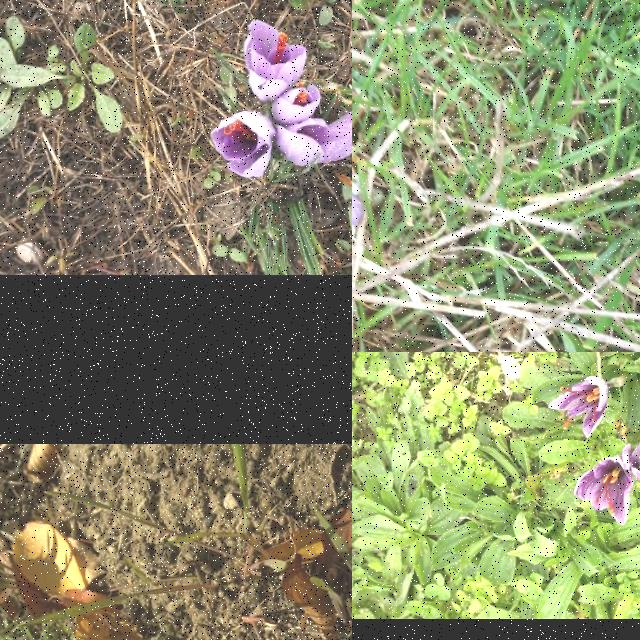flower: (244, 20, 308, 101), (275, 107, 352, 167), (212, 111, 276, 179), (574, 456, 634, 526), (548, 376, 608, 439), (272, 82, 322, 124), (623, 427, 640, 496), (352, 195, 364, 223)
